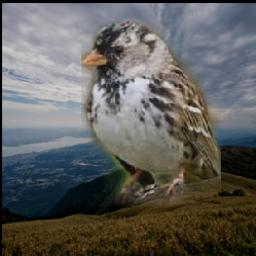Sparrow: (81, 22, 221, 207)
